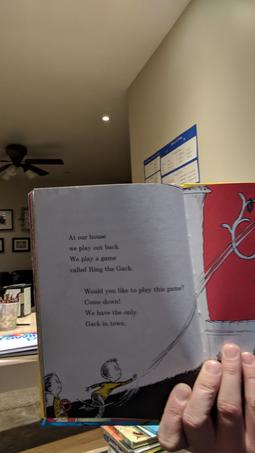text block: (72, 280, 195, 339), (58, 226, 145, 273)
